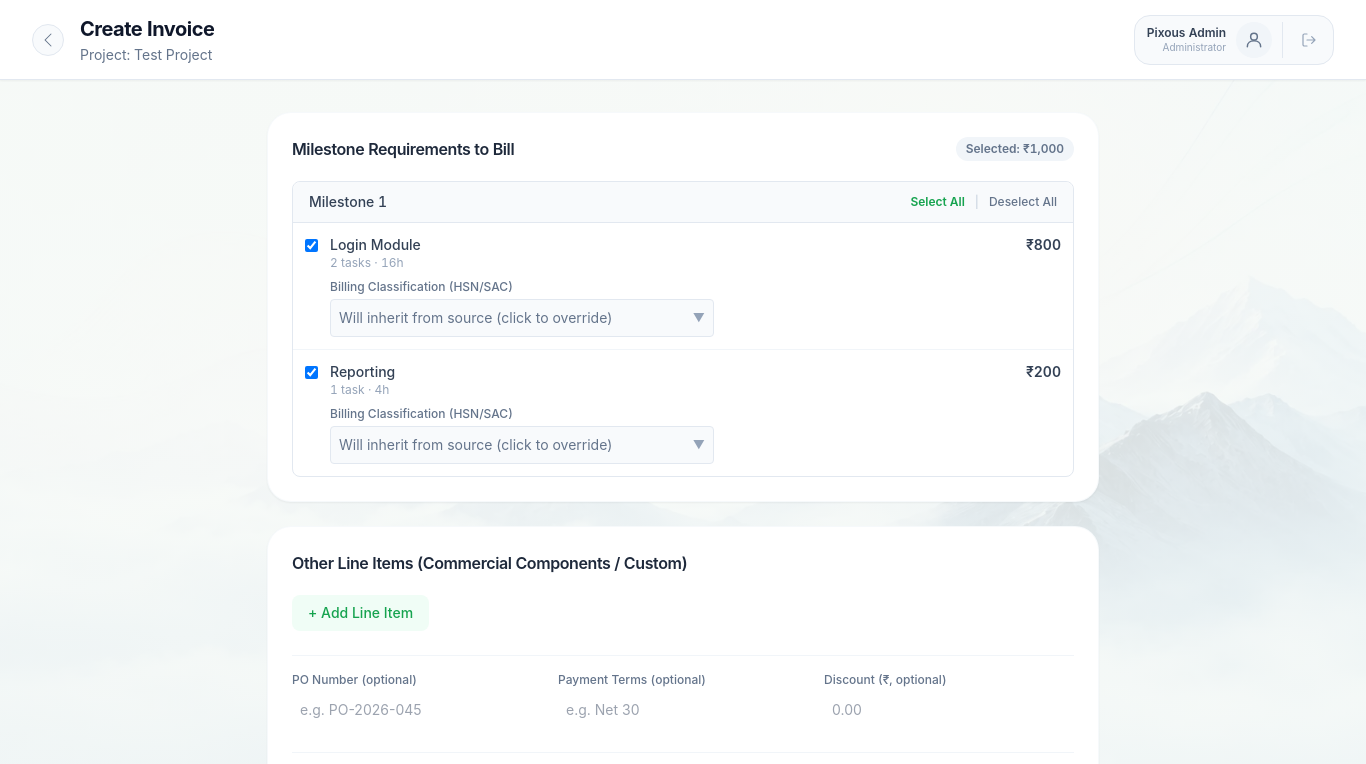
Test case: NewInvoiceV2 › unchecking a single requirement checkbox updates the running total
The width and height of the screenshot is (1366, 764).
Check: the text "Login Module" is shown, box [330,235,421,255]
Step 1. Click the checkbox next to "Reporting" → (312, 372), box [305,366,318,379]
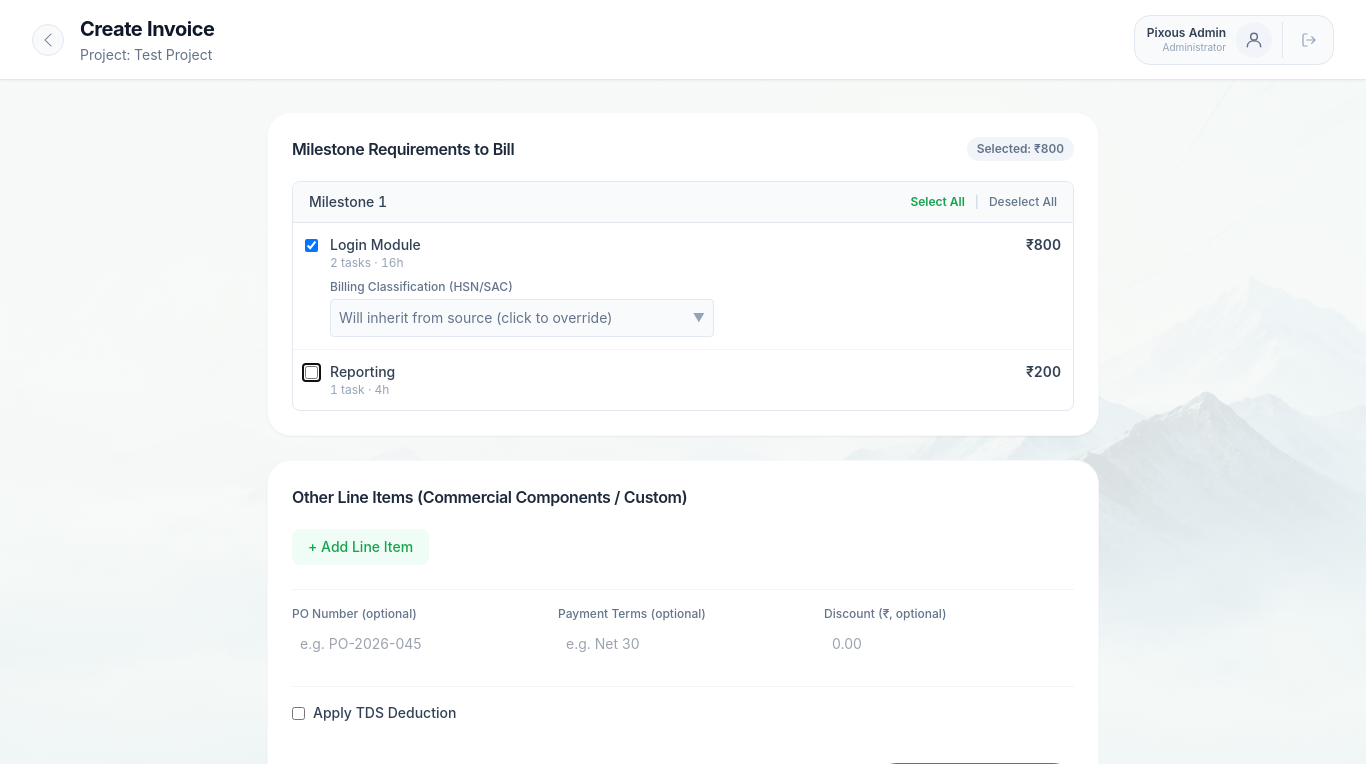
Check: the text "Selected: ₹800" is shown, box [967,137,1074,161]
